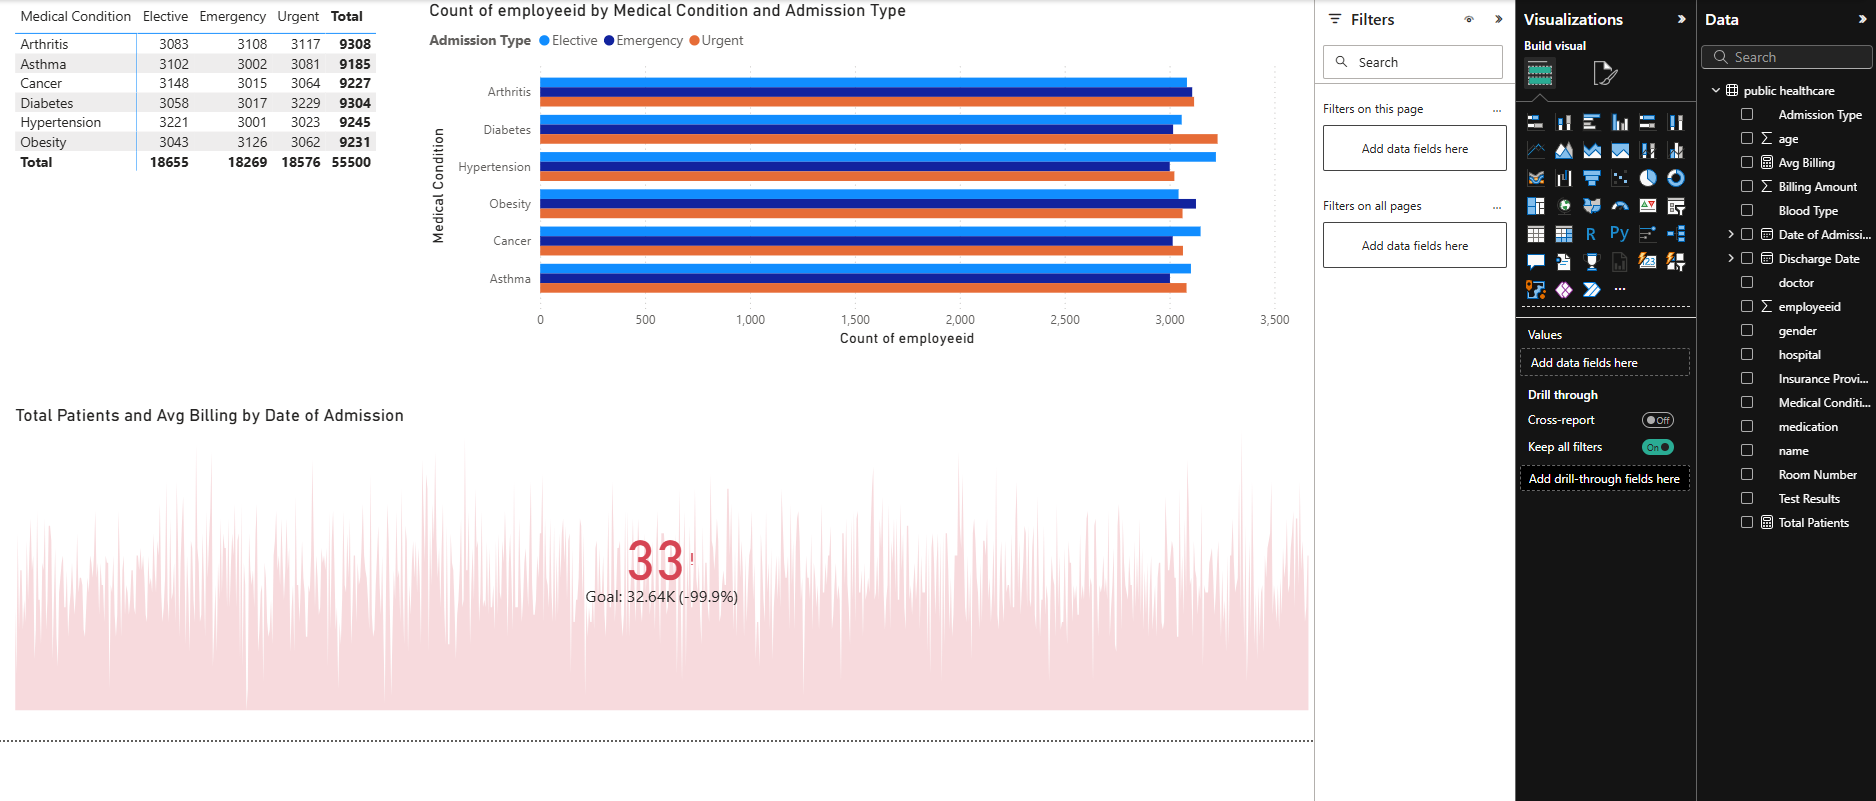

This screenshot's page, from the dashboard's own definition file:
{"tool":"powerbi","page":{"name":"Page 1","canvas":[1280,720],"ordinal":0},"visuals":[{"type":"pivotTable","fields":{"Rows":["public healthcare.Medical Condition"],"Columns":["public healthcare.Admission Type"],"Values":["CountNonNull(public healthcare.employeeid)"]},"box":[11.7,0,375.4,176],"z":0},{"type":"clusteredBarChart","fields":{"Category":["public healthcare.Medical Condition"],"Y":["CountNonNull(public healthcare.employeeid)"],"Series":["public healthcare.Admission Type"]},"box":[414.3,0,847.2,342.4],"z":1},{"type":"kpi","fields":{"Indicator":["public healthcare.Total Patients"],"Goal":["public healthcare.Avg Billing"],"TrendLine":["public healthcare.Date of Admission"]},"box":[11.7,393.9,1268.3,302.5],"z":2}]}

Visuals, with their boxes on the page's 1280x720 design canvas (x1, y1, x2, y2). These are canvas units, not pixel positions in the 1876x801 screenshot, which may show the page scaled, cropped or inside an application window:
pivotTable - public healthcare.Medical Condition x public healthcare.Admission Type: l=12, t=0, r=387, b=176
clusteredBarChart - public healthcare.Medical Condition x CountNonNull(public healthcare.employeeid): l=414, t=0, r=1262, b=342
kpi - public healthcare.Total Patients x public healthcare.Avg Billing: l=12, t=394, r=1280, b=696
